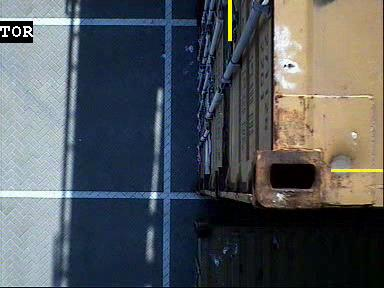groundmarker_2: (137, 125, 209, 164)
